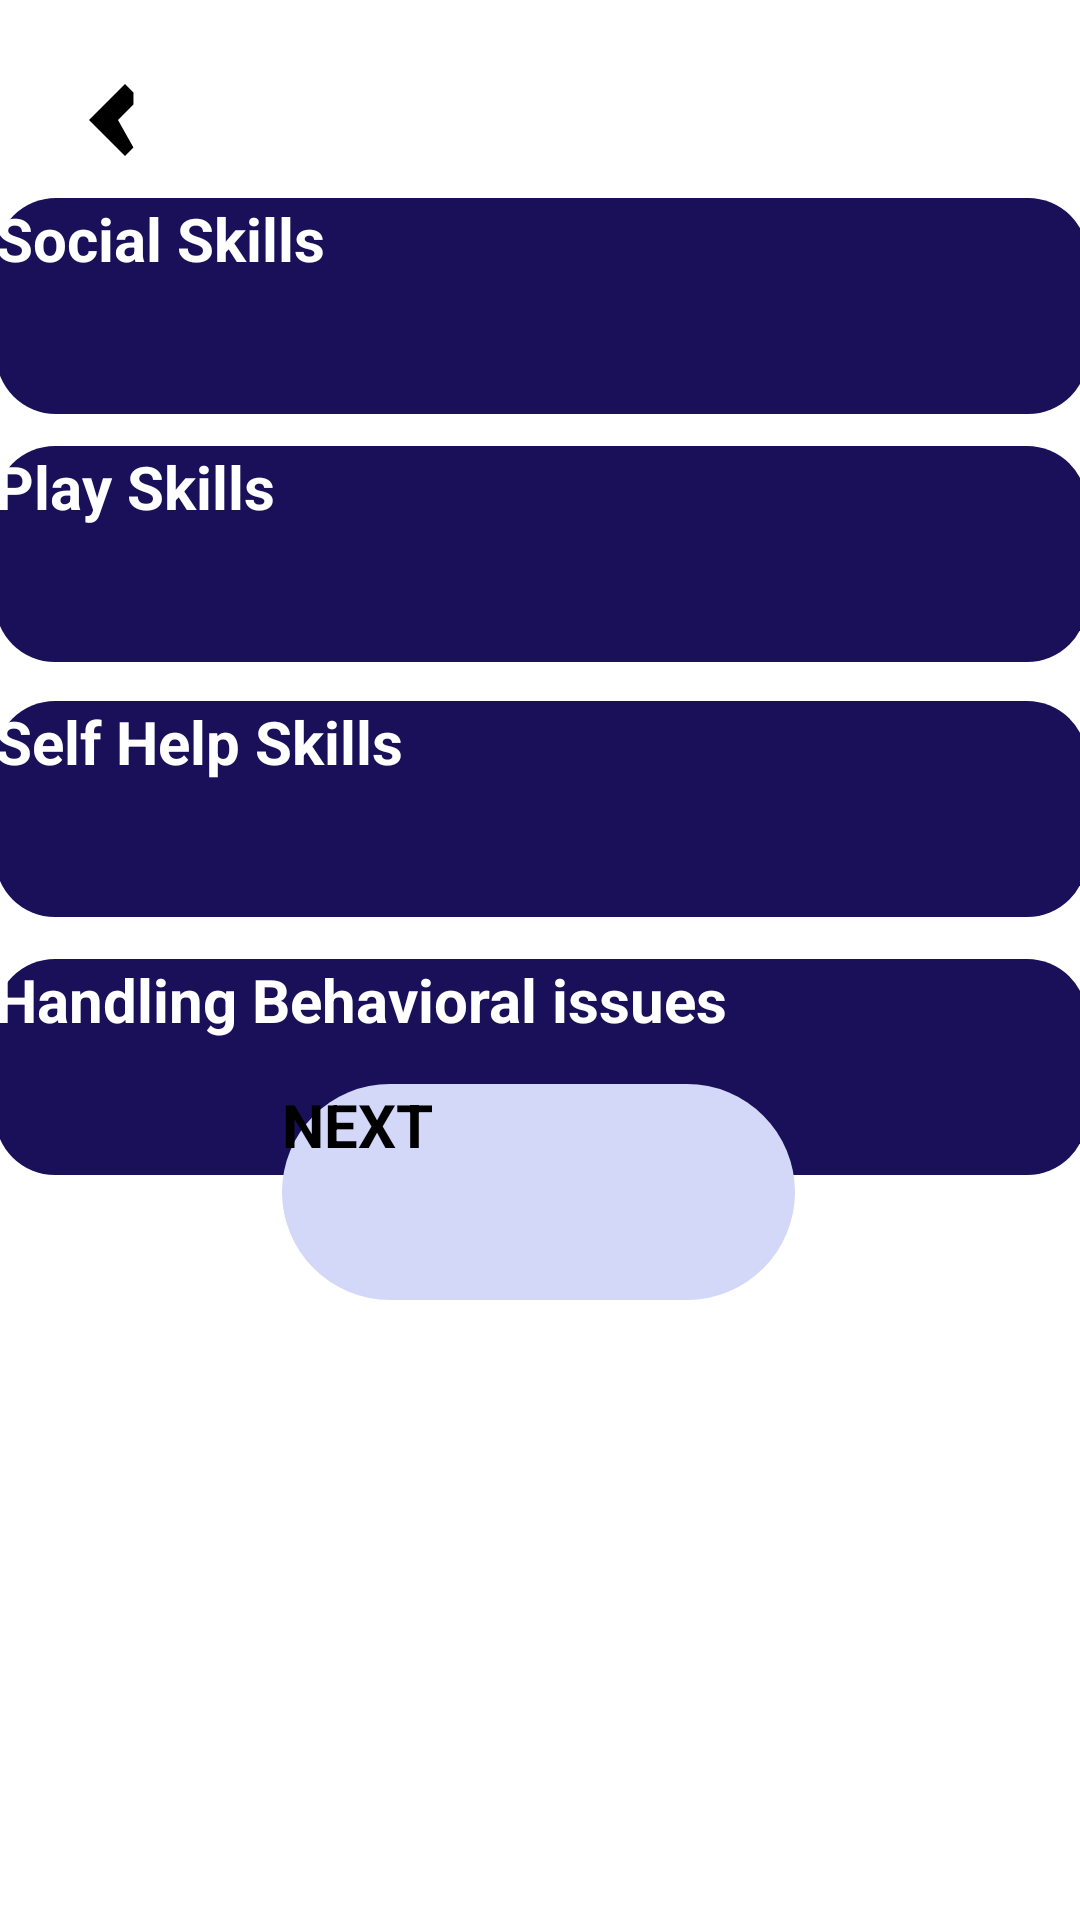

Icons on this 1080×1920 Android screen, each with the point to tap as point (x, y):
back: point (111, 120)
